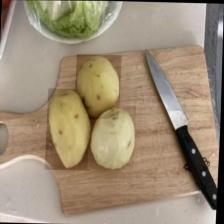Potato: (46, 88, 94, 170), (88, 104, 137, 170), (75, 54, 122, 119)
